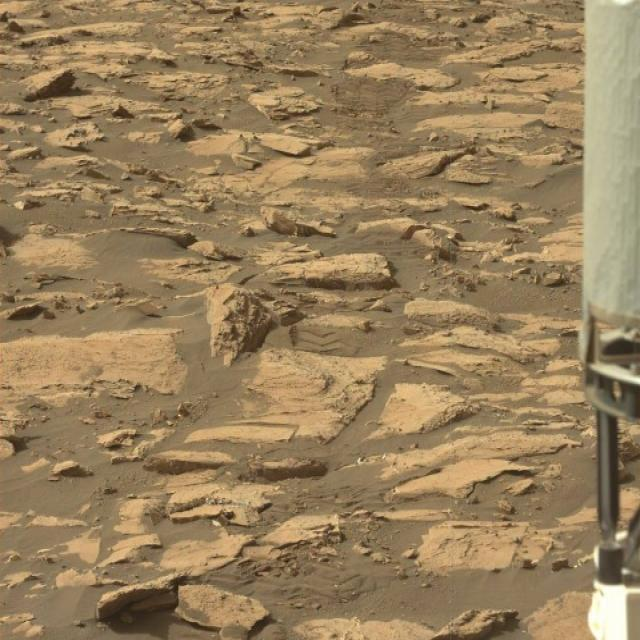rock: (173, 580, 276, 640), (206, 280, 274, 370), (96, 575, 180, 626)
